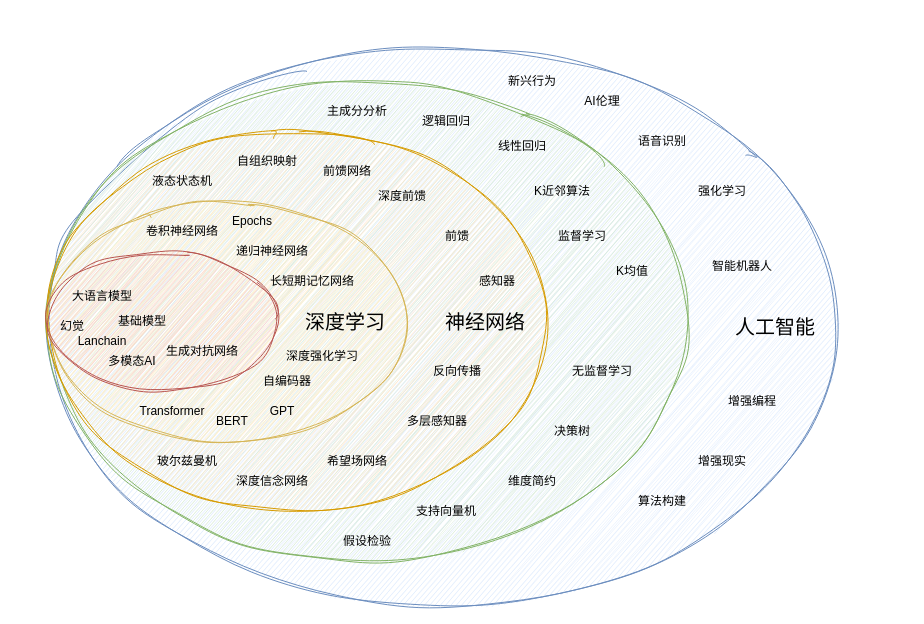
This 924x624 diagram has some shape labels left out. Here are the shapes that lost their labels. From the top down, the box of each, then its label:
(46, 250, 278, 392): 生成式AI
(46, 80, 688, 562): 机器学习
